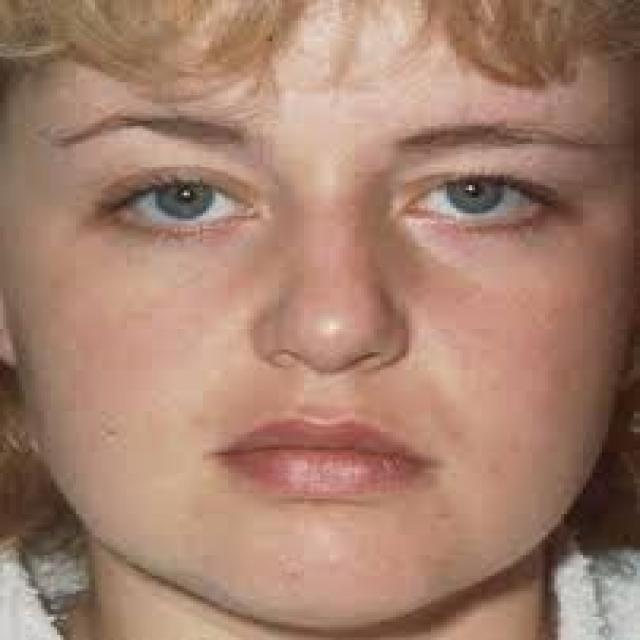normal_face: (44, 55, 624, 602)
